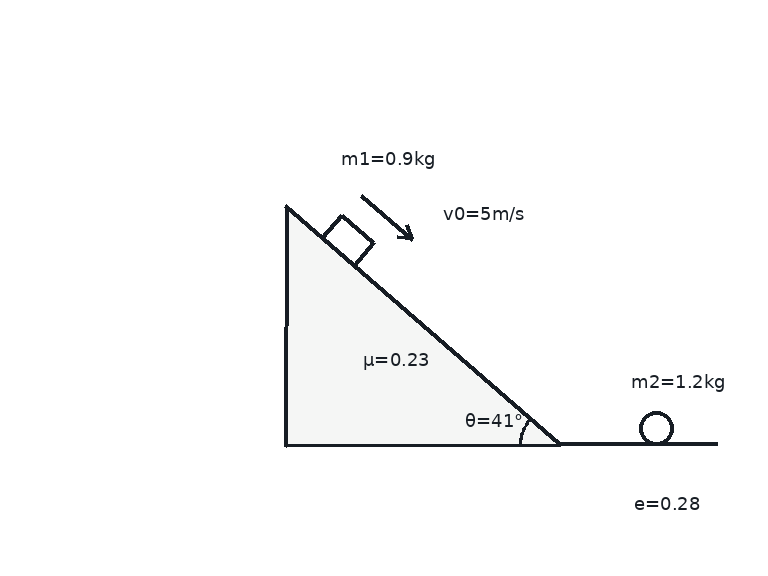ball: (637, 409, 675, 447)
block: (320, 213, 375, 267)
ramp: (283, 204, 562, 447)
